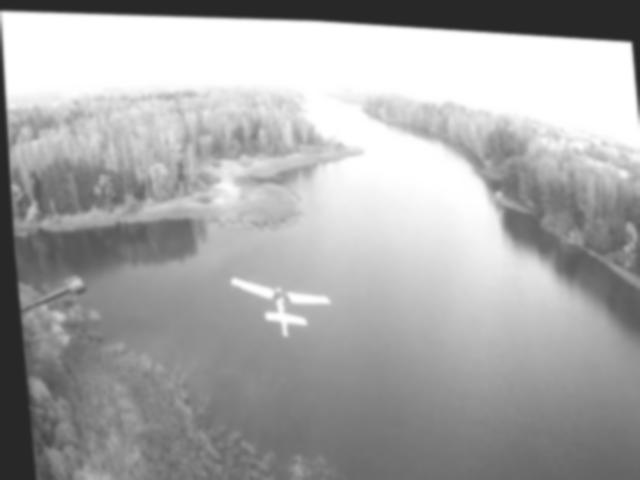hedef: (222, 268, 331, 339)
